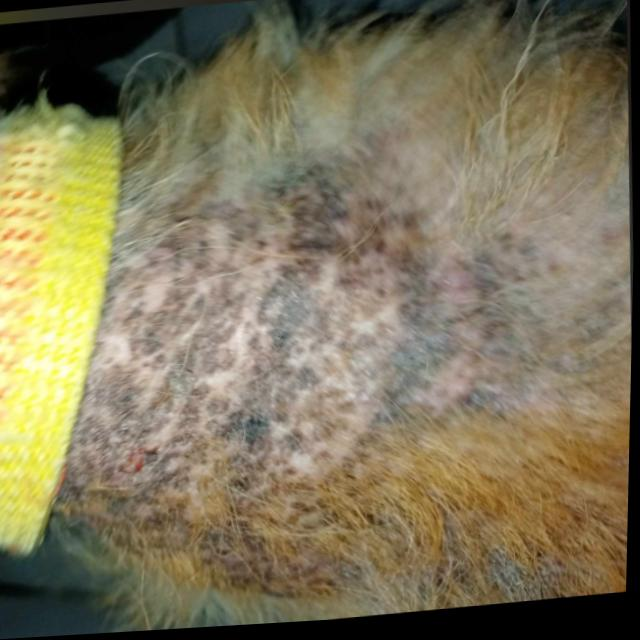demodicosis: (99, 147, 529, 526)
